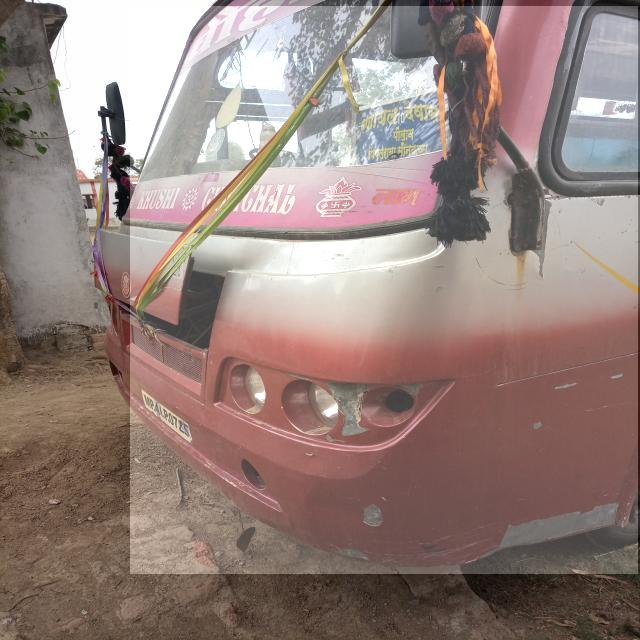Bus: (131, 6, 638, 574)
